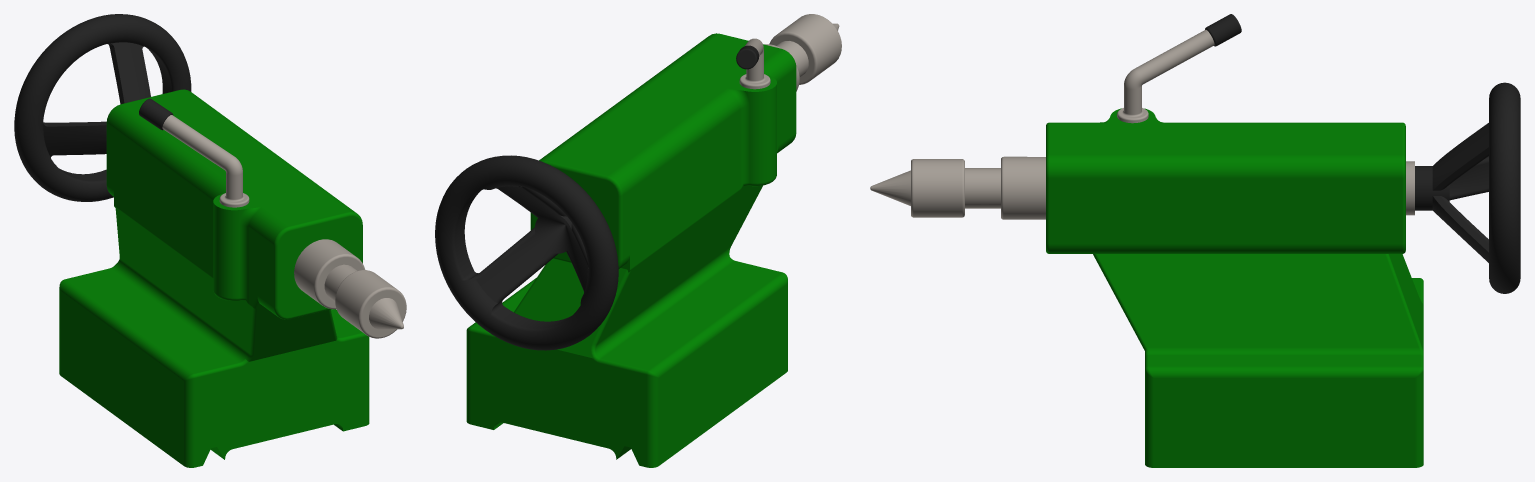
File: ponto-V3.fbx
3 views of the same model, side by side, from view 1: azimuth 30°, elevation 25°; view 2: azimuth 150°, elevation 25°; view 3: azimuth 270°, elevation 25° (orthographic). The views are drawn at different scales.
Visible parts, largest first — view 1: 3DGeom~100, Body_1_2, Body_1, 3DGeom~182, 3DGeom~180; view 2: 3DGeom~100, Body_1_2, Body_1, 3DGeom~182, 3DGeom~180; view 3: 3DGeom~100, Body_1_2, Body_1, 3DGeom~182, 3DGeom~180.
Part boxes in pixels (<box>): 3DGeom~100: <box>59,89,369,467</box>; Body_1_2: <box>14,14,191,201</box>; Body_1: <box>294,239,406,338</box>; 3DGeom~182: <box>162,115,249,207</box>; 3DGeom~180: <box>139,98,173,130</box>; 3DGeom~100: <box>466,33,796,467</box>; Body_1_2: <box>435,155,618,350</box>; Body_1: <box>764,14,841,91</box>; 3DGeom~182: <box>739,38,770,89</box>; 3DGeom~180: <box>736,45,759,69</box>; 3DGeom~100: <box>1046,108,1423,467</box>; Body_1_2: <box>1415,82,1520,293</box>; Body_1: <box>870,156,1045,219</box>; 3DGeom~182: <box>1117,29,1214,123</box>; 3DGeom~180: <box>1205,14,1241,46</box>.
Size of the model in its own units: 0.2607 by 0.7225 by 0.4398.
